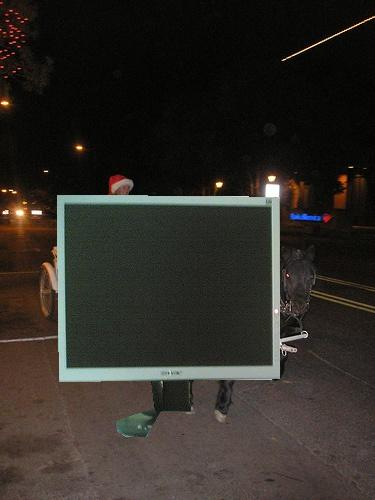tampered: (58, 196, 280, 437)
